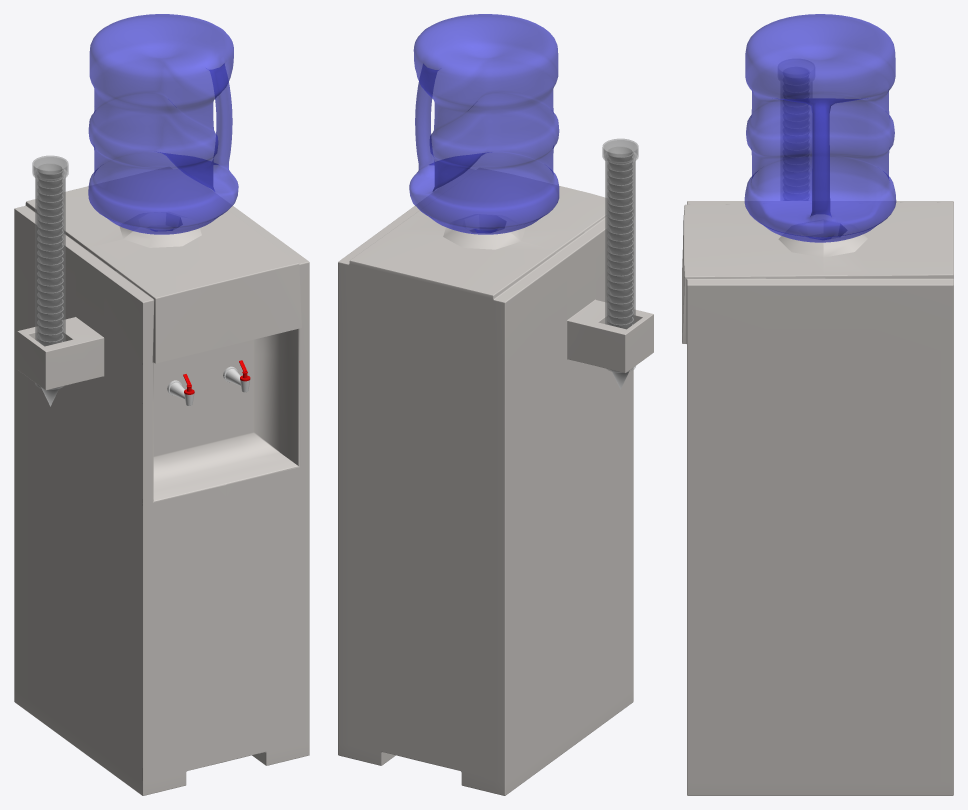
The model's file is Water_Cooler.fbx.
3 renders of one model, left to right at view 1: azimuth 30°, elevation 25°; view 2: azimuth 150°, elevation 25°; view 3: azimuth 270°, elevation 25°, orthographic. The views are drawn at different scales.
Visible parts, largest first — view 1: Water_Cooler_Base, Water_Bottle, Cup_Holder; view 2: Water_Cooler_Base, Water_Bottle, Cup_Holder; view 3: Water_Cooler_Base, Water_Bottle.
Part boxes in pixels (bbox=[...]): Water_Cooler_Base: bbox=[14, 167, 309, 795]; Water_Bottle: bbox=[88, 14, 238, 234]; Cup_Holder: bbox=[32, 155, 68, 389]; Water_Cooler_Base: bbox=[338, 168, 653, 795]; Water_Bottle: bbox=[409, 14, 559, 234]; Cup_Holder: bbox=[602, 138, 638, 372]; Water_Cooler_Base: bbox=[682, 201, 953, 795]; Water_Bottle: bbox=[744, 14, 896, 242].
Bounding box in the file's own units: 10.12 × 29.44 × 10.18.
